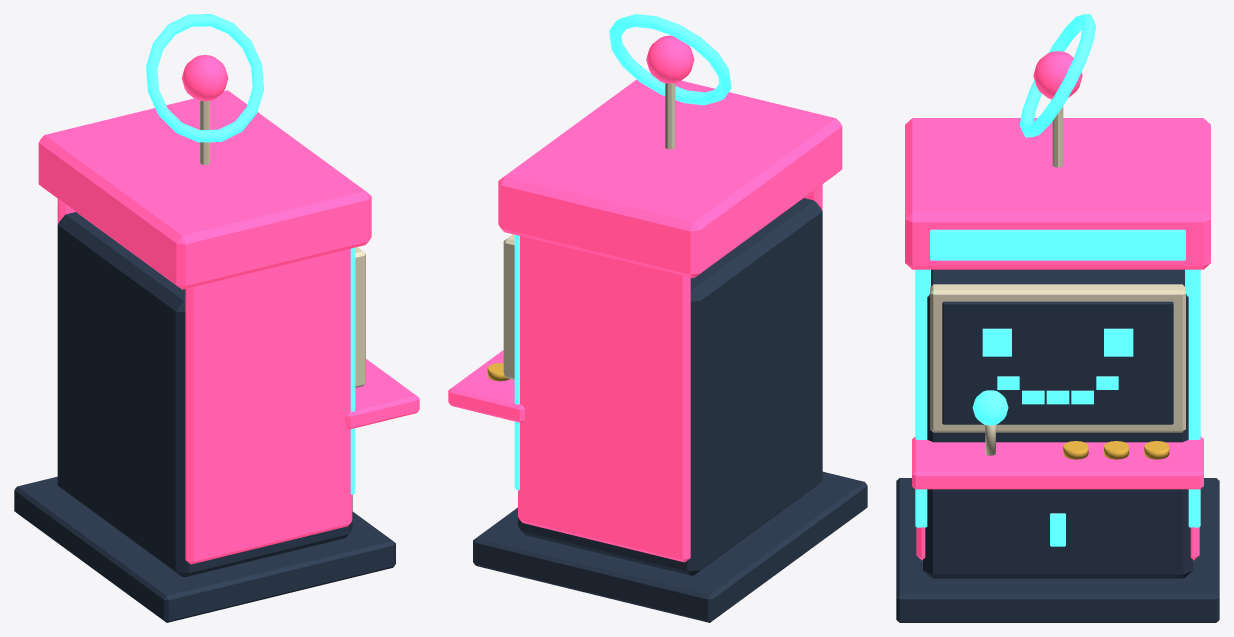
Rendered from landmark_neon.glb.
3 views of the same model, side by side, from view 1: azimuth 30°, elevation 25°; view 2: azimuth 150°, elevation 25°; view 3: azimuth 270°, elevation 25° (orthographic). The views are drawn at different scales.
Parts seen in each view (by area): view 1: static_Arcade pink, static_Midnight, anim_spinner, static_Warm ivory, static_Neon cyan; view 2: static_Arcade pink, static_Midnight, anim_spinner, static_Warm ivory, static_Neon cyan; view 3: static_Midnight, static_Arcade pink, static_Neon cyan, static_Warm ivory, anim_spinner, static_Trophy gold.
Part boxes in pixels (box(x1,y1,x2,y2)): static_Arcade pink: box(38, 90, 419, 564); static_Midnight: box(14, 212, 395, 622); anim_spinner: box(146, 14, 263, 142); static_Warm ivory: box(200, 101, 365, 387); static_Neon cyan: box(350, 247, 355, 494); static_Arcade pink: box(448, 73, 842, 562); static_Midnight: box(473, 198, 867, 622); anim_spinner: box(609, 14, 731, 105); static_Warm ivory: box(503, 83, 675, 379); static_Neon cyan: box(514, 235, 519, 490); static_Midnight: box(896, 269, 1219, 622); static_Arcade pink: box(905, 118, 1210, 560); static_Neon cyan: box(915, 229, 1200, 546); static_Warm ivory: box(930, 106, 1185, 455); anim_spinner: box(1020, 14, 1095, 137); static_Trophy gold: box(1063, 441, 1169, 459).
Size of the model in its own units: 7.15 by 13.34 by 7.2.
